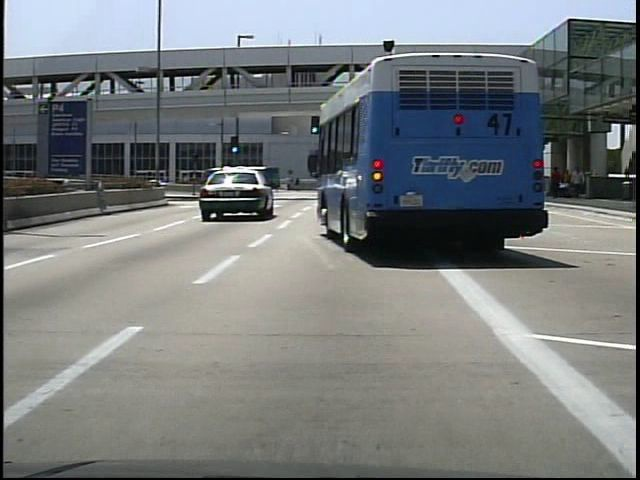person: (569, 166, 587, 201), (552, 167, 562, 200), (561, 167, 571, 198), (292, 176, 302, 195), (280, 176, 291, 193)
